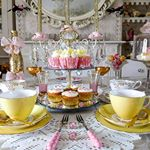cups: (108, 87, 150, 124), (1, 88, 40, 124)
